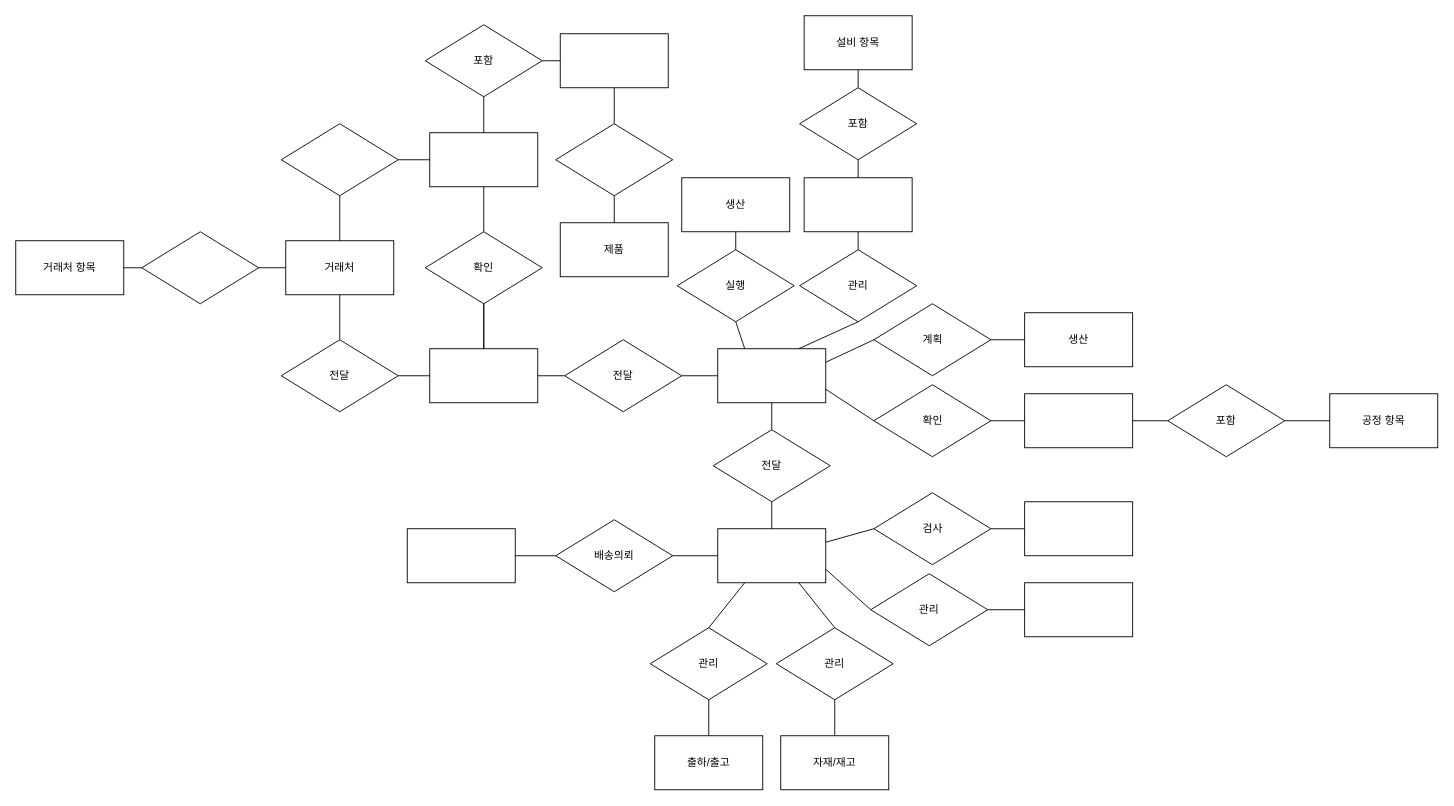
This 1454x806 diagram has some shape labels left out. Each missing label, with the centre of its shape:
"ERP/SCM" goes at pixel 483 375.
"MES 관리자" goes at pixel 771 375.
"WMS 관리자" goes at pixel 771 555.
"공정" goes at pixel 1078 420.
"관련" goes at pixel 614 159.
"설비" goes at pixel 857 204.
"운송업체" goes at pixel 460 555.
"원자재" goes at pixel 1078 528.
"의뢰" goes at pixel 339 159.
"입하/입고" goes at pixel 1078 609.
"주문" goes at pixel 483 159.
"주문항목" goes at pixel 613 60.
"포함한다" goes at pixel 200 267.
